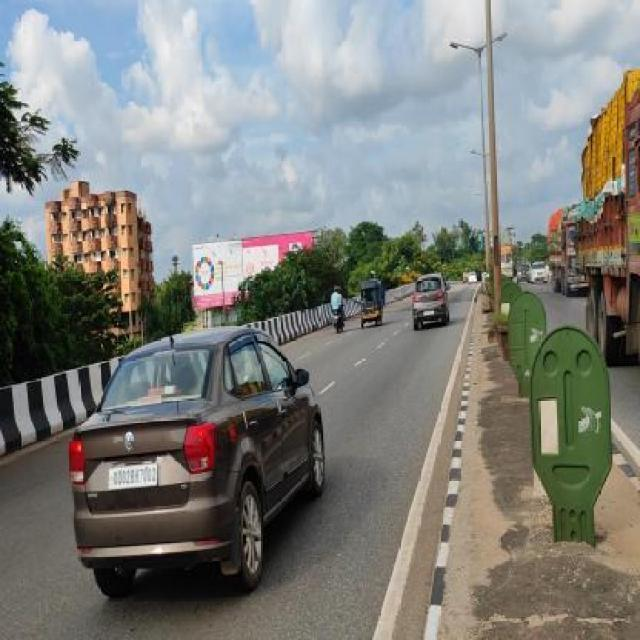vehicle: (63, 318, 330, 607), (575, 79, 640, 354), (409, 264, 449, 336)
